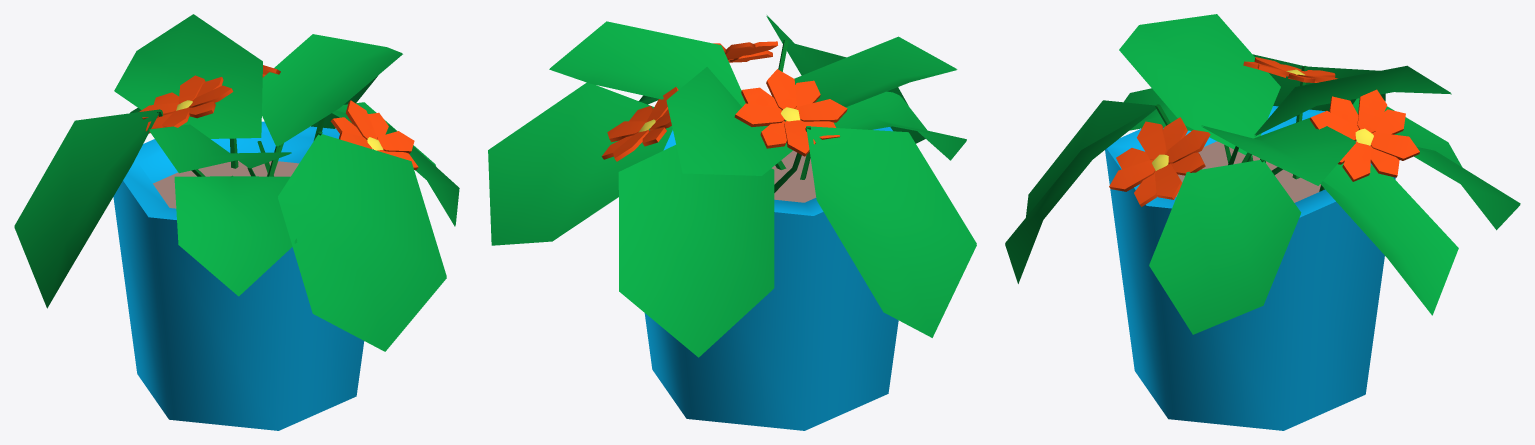
The model's file is flower_001.glb.
The picture shows the model from 3 angles, left to right: view 1: azimuth 30°, elevation 25°; view 2: azimuth 150°, elevation 25°; view 3: azimuth 270°, elevation 25°; orthographic projection. The views are drawn at different scales.
Parts seen in each view (by area): view 1: flower_001; view 2: flower_001; view 3: flower_001.
Boxes of the visible parts, x1,y1,x2,y2 form: flower_001: (14,14,459,430); flower_001: (488,15,976,430); flower_001: (1005,14,1520,430).
Bounding box in the file's own units: 0.3479 × 0.2718 × 0.3874.
Materials: 1 (1 with a texture image).
